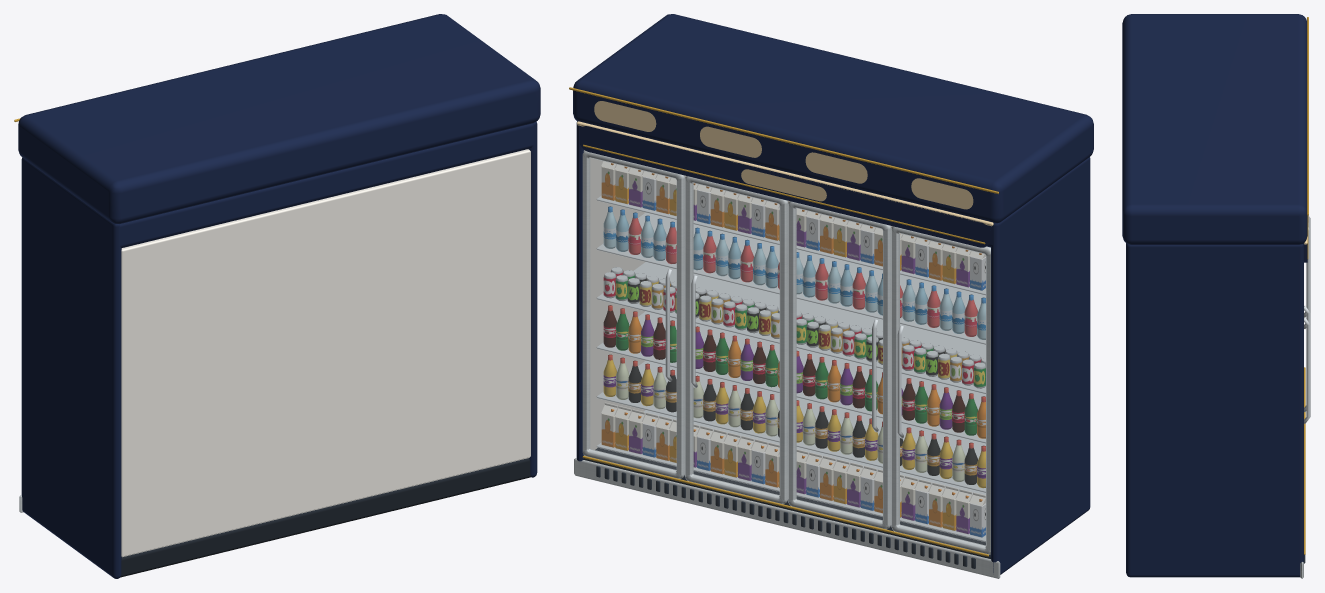
File: drinks_T4.fbx
The picture shows the model from 3 angles, left to right: view 1: azimuth 30°, elevation 25°; view 2: azimuth 150°, elevation 25°; view 3: azimuth 270°, elevation 25°; orthographic projection. The views are drawn at different scales.
Visible parts, largest first — view 1: Body; view 2: Body, Anim Fill 0, Anim Fill 3, Anim Fill 1, Anim Fill 2; view 3: Body.
Part boxes in pixels (bbox=[...]): Body: bbox=[14, 14, 540, 578]; Body: bbox=[569, 14, 1093, 578]; Anim Fill 0: bbox=[601, 161, 713, 470]; Anim Fill 3: bbox=[901, 234, 985, 537]; Anim Fill 1: bbox=[699, 188, 814, 494]; Anim Fill 2: bbox=[802, 211, 909, 517]; Body: bbox=[1122, 14, 1310, 578].
Size of the model in its own units: 2.52 by 2.22 by 1.02.
